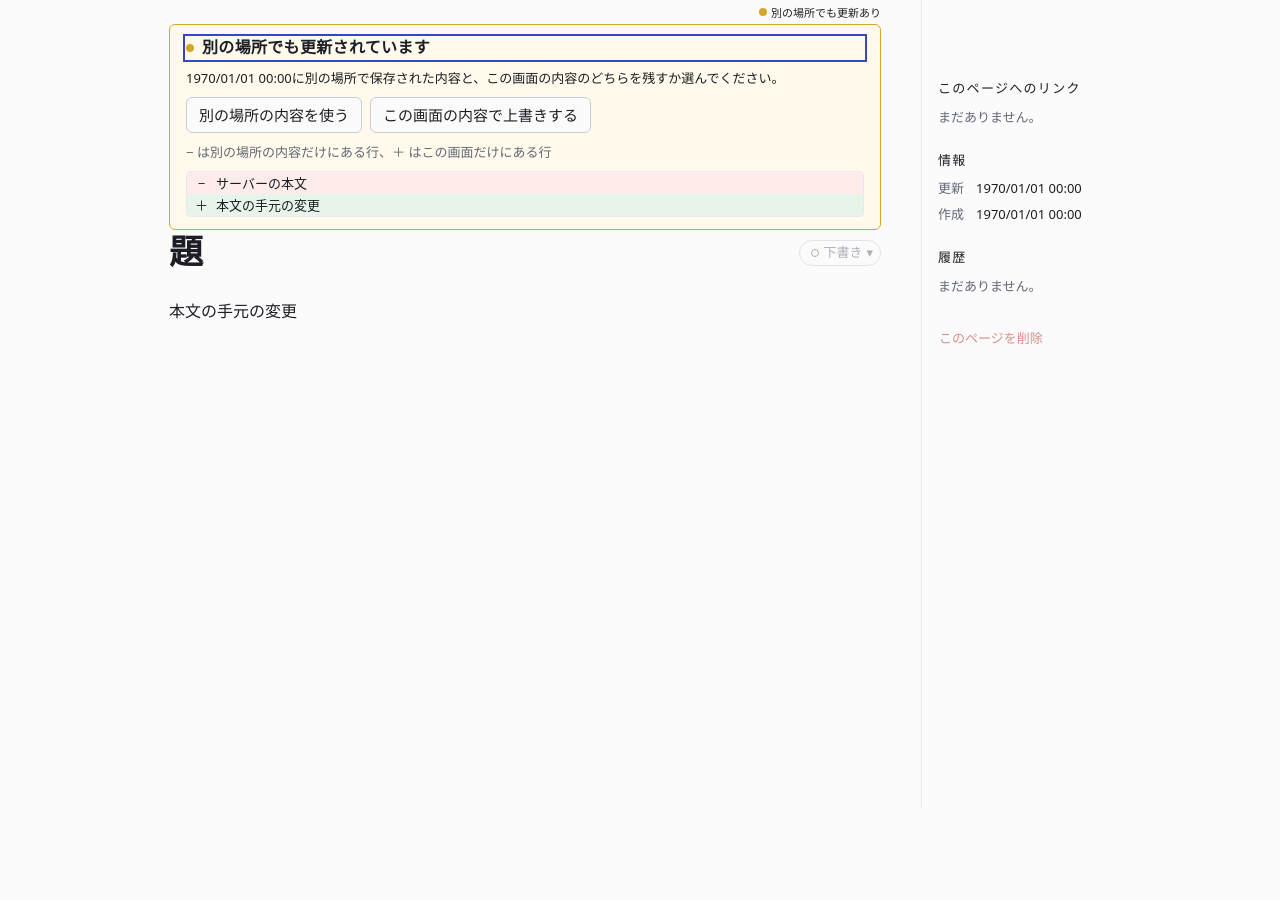
Test: PageEditor と本文のエディタ › 保存が衝突したら読み取り専用にし、サーバーの版を取り込むと replaceDoc で差し替えて編集に戻す
押すと通知の中で確かめる。やめれば何も変わらず、衝突の画面が残る
Click the button "別の場所の内容を使う" at (274, 115), box [186,97,362,133]
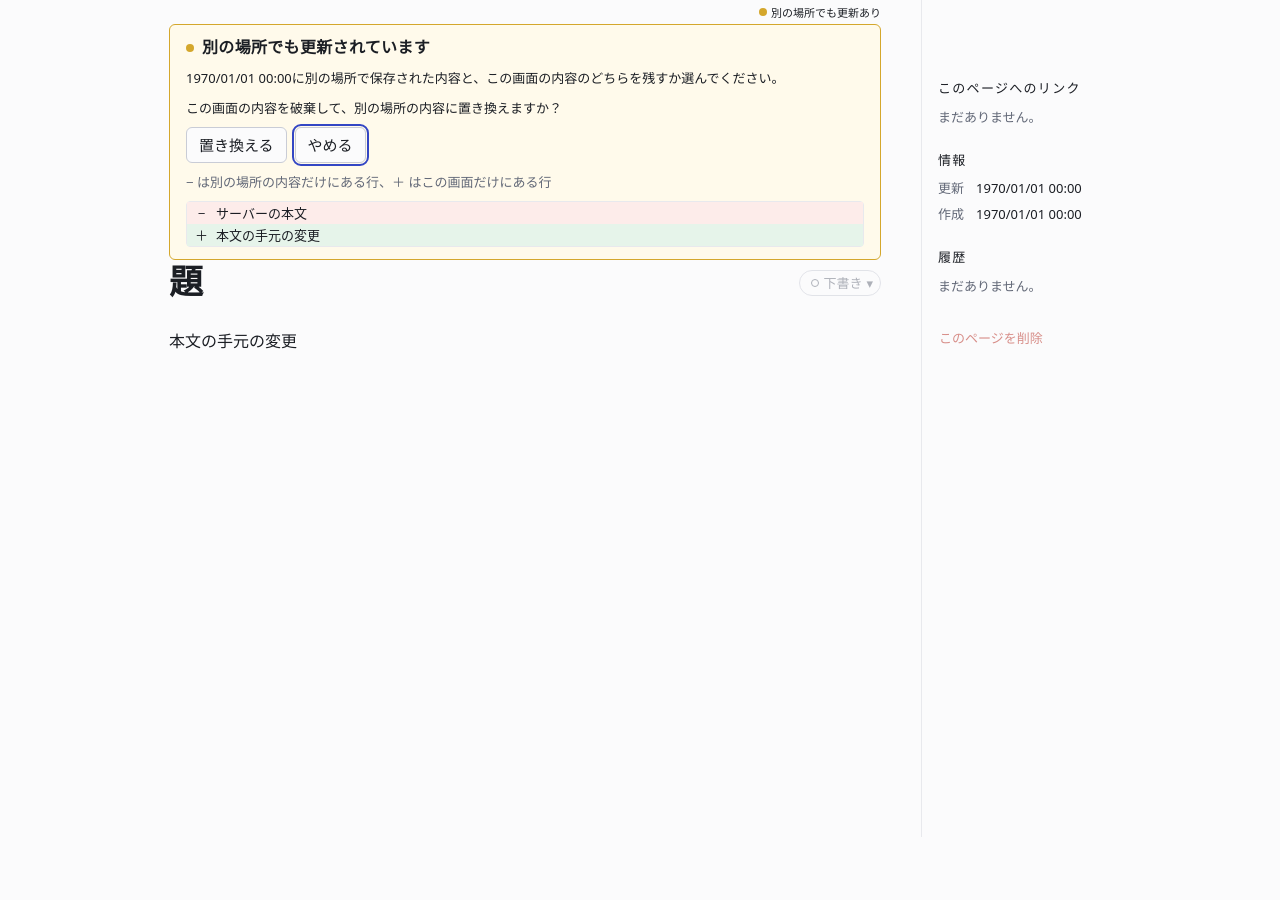
Check: the text "この画面の内容を破棄して、別の場所の内容に置き換えますか？" is shown, box [186,99,562,117]
Click the button "やめる" at (330, 145), box [295,127,366,163]
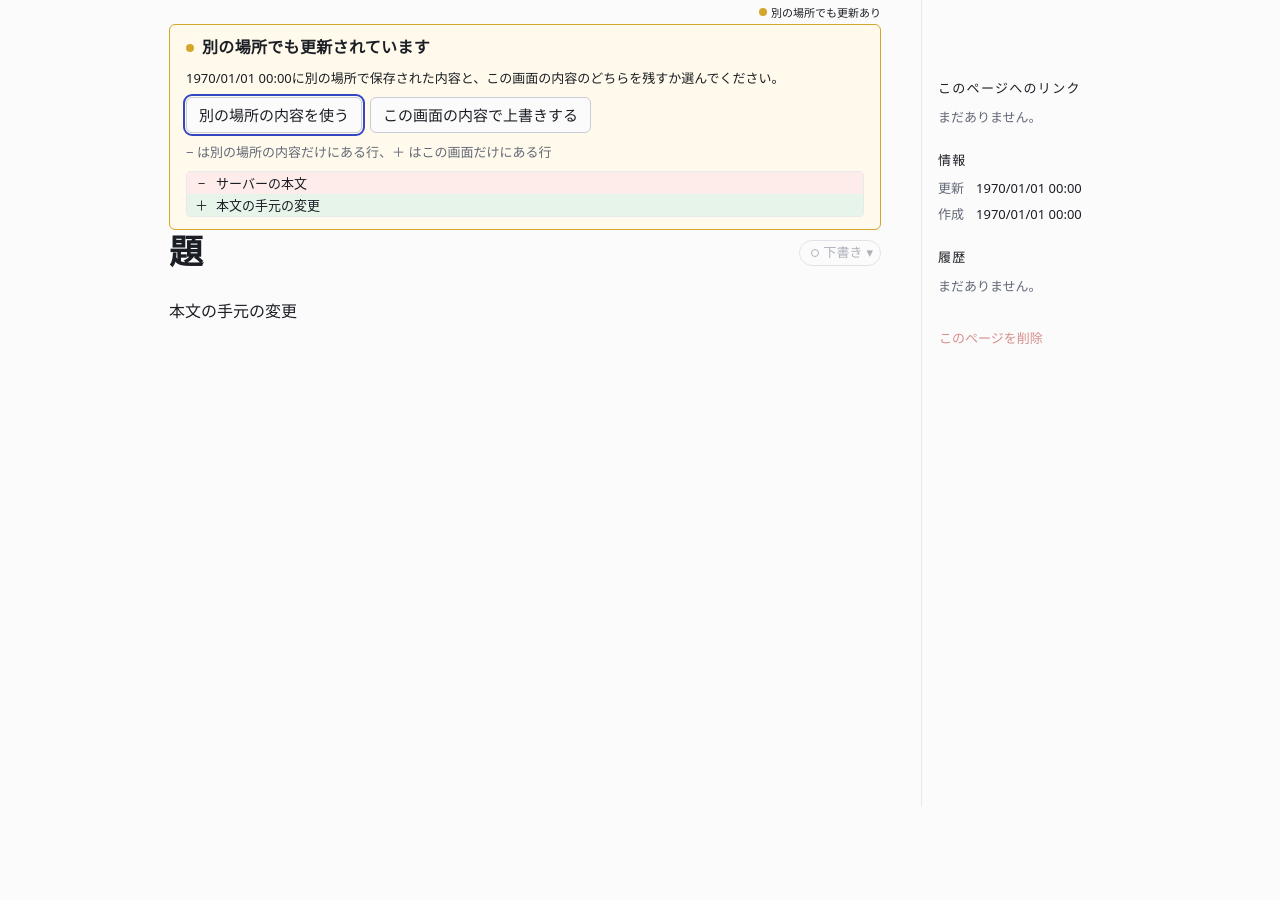
Check: the text "本文の手元の変更" is shown, box [216,194,320,216]
Click the button "別の場所の内容を使う" at (274, 115), box [186,97,362,133]
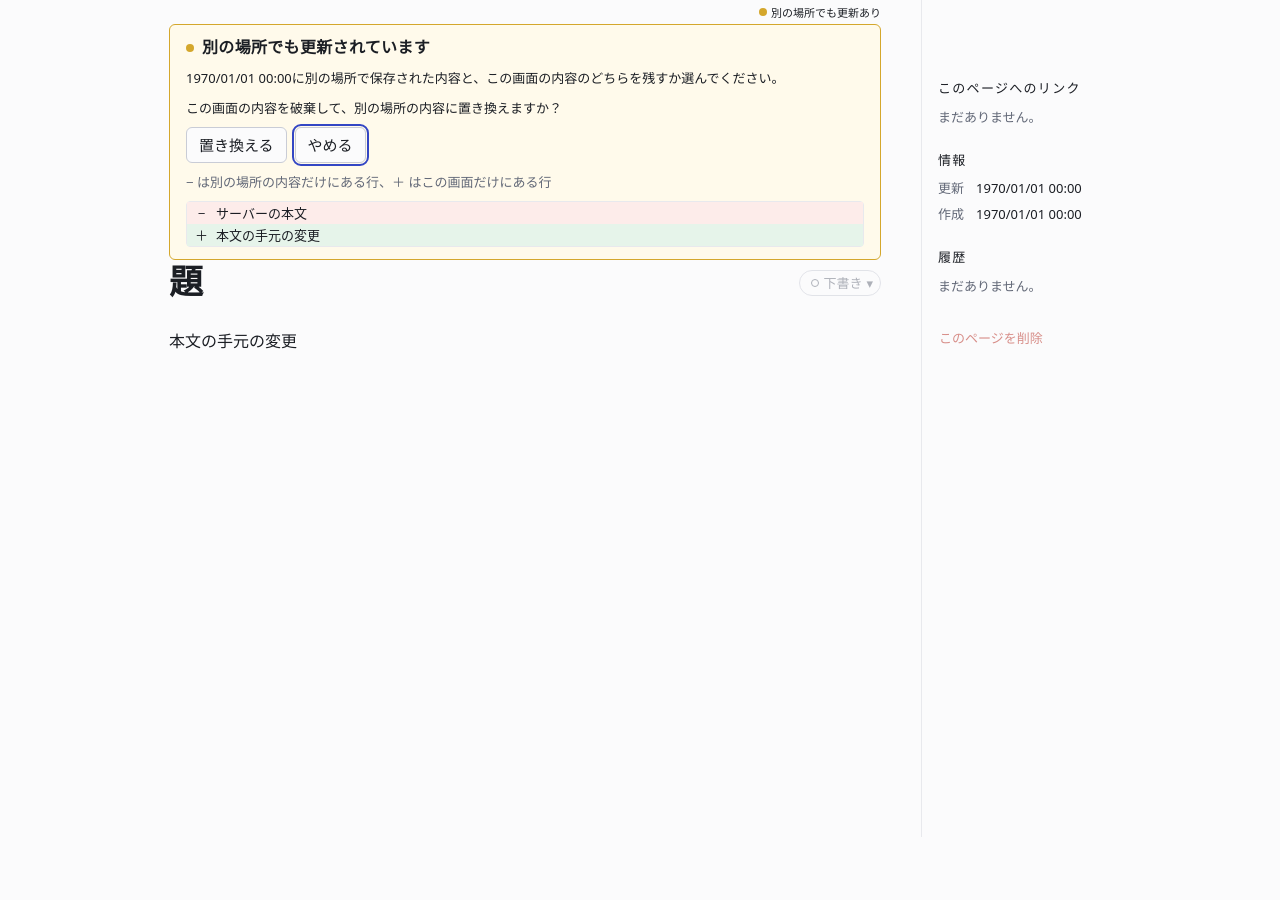
Click the button "置き換える" at (236, 145), box [186,127,287,163]
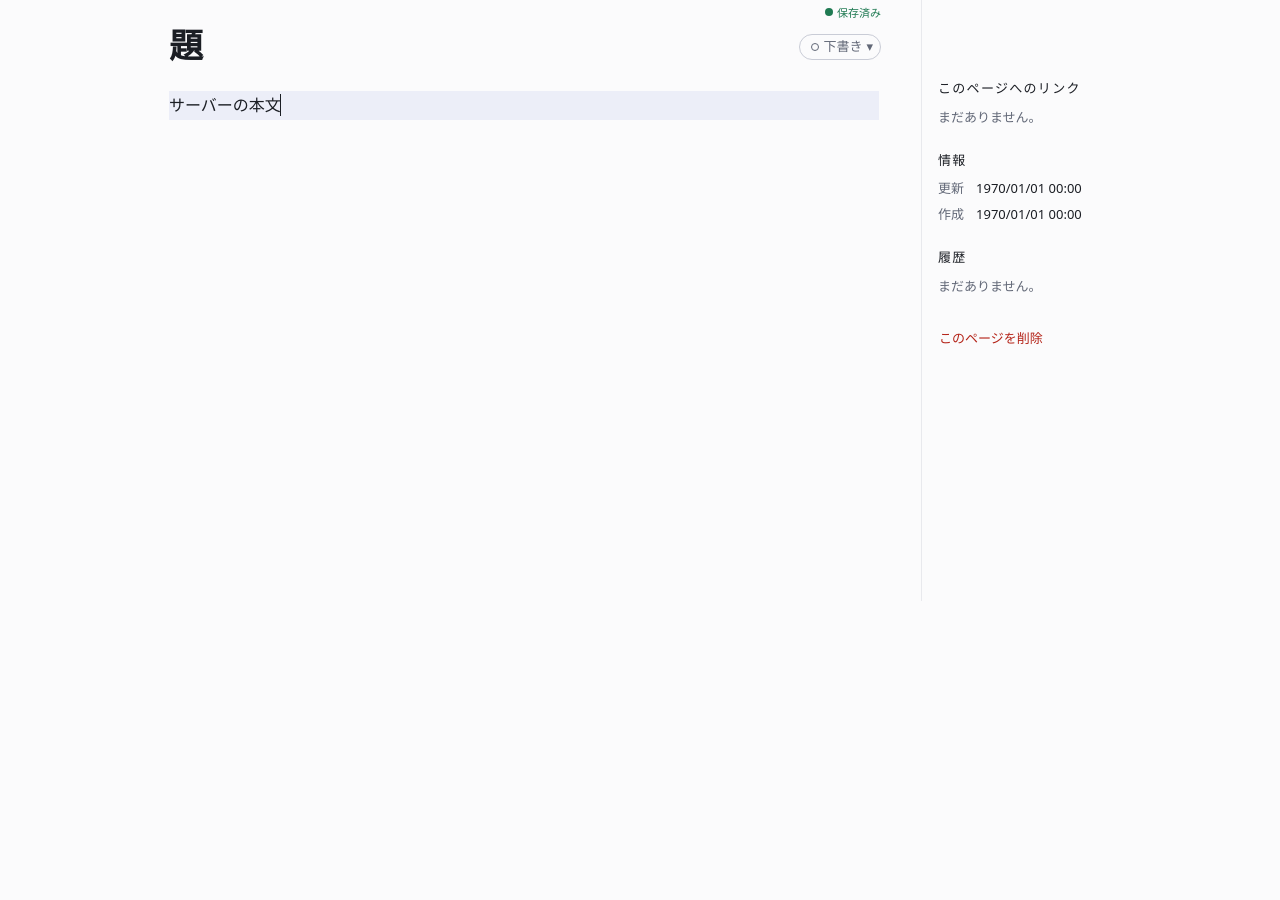
Check: the text box labelled "サーバーの本文" is shown, box [163,91,881,120]
